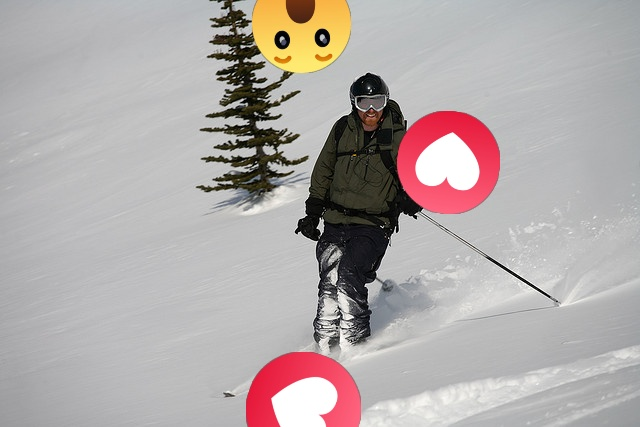love: (397, 111, 500, 214), (246, 352, 361, 427)
wow: (252, 0, 351, 73)
